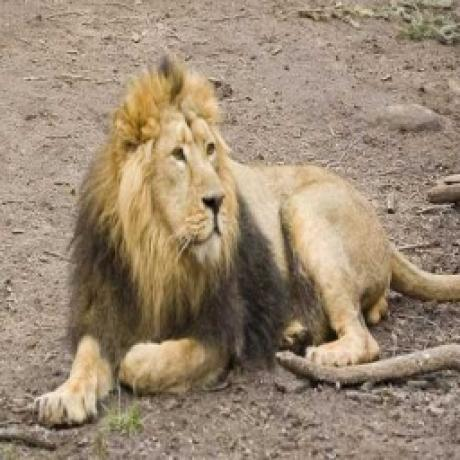Lion: (30, 58, 460, 430)
